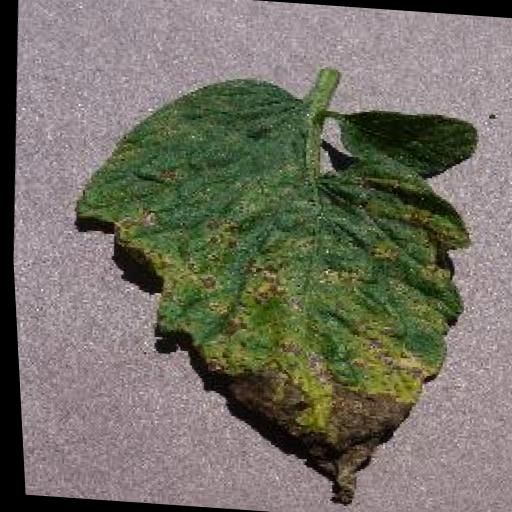Septoria: (49, 65, 492, 512)
